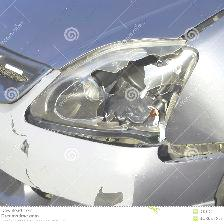head_lamp: (51, 43, 180, 142)
